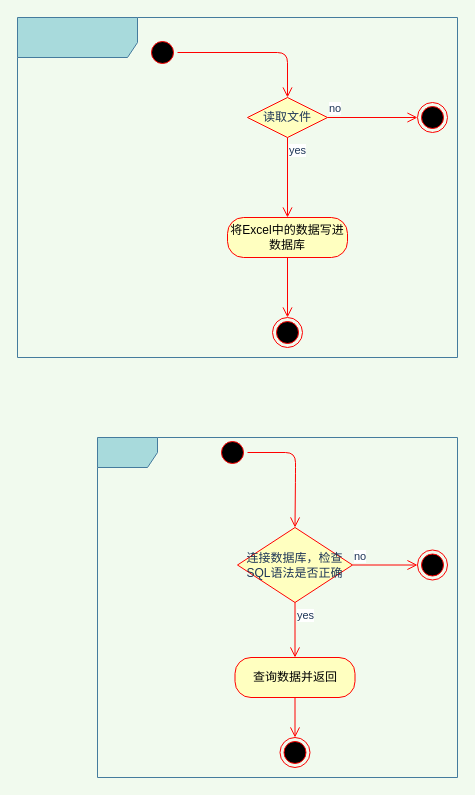
Image size: 475x795. Some labels were removed from this diagram. Here are the shapes that lost their labels. From the top down, the centre of each, then its label:
At point (237, 187): "FromExcleToMySQL".
At point (277, 607): "Result".
